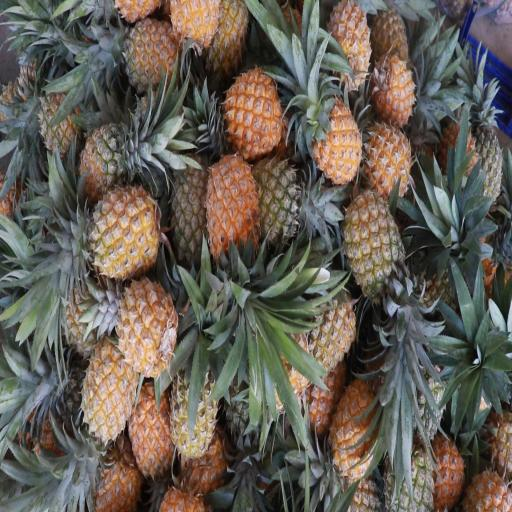------------------------------: (340, 175, 405, 304), (162, 330, 215, 454), (64, 118, 138, 202), (245, 144, 306, 240), (117, 24, 184, 102)
Pineapple - v8 v1: (68, 180, 162, 283), (200, 150, 263, 280), (109, 271, 178, 383), (318, 372, 384, 488), (76, 329, 135, 451), (221, 64, 281, 172), (300, 282, 366, 379), (304, 96, 369, 193), (356, 108, 413, 205), (124, 377, 175, 479), (317, 3, 374, 92), (364, 46, 417, 129), (208, 1, 263, 78)
